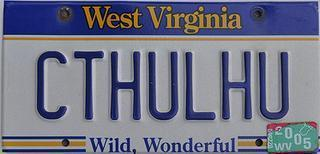placa de veiculo: (2, 1, 320, 154)
